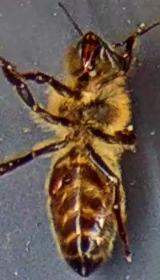varroa_mite: (43, 156, 80, 196)
